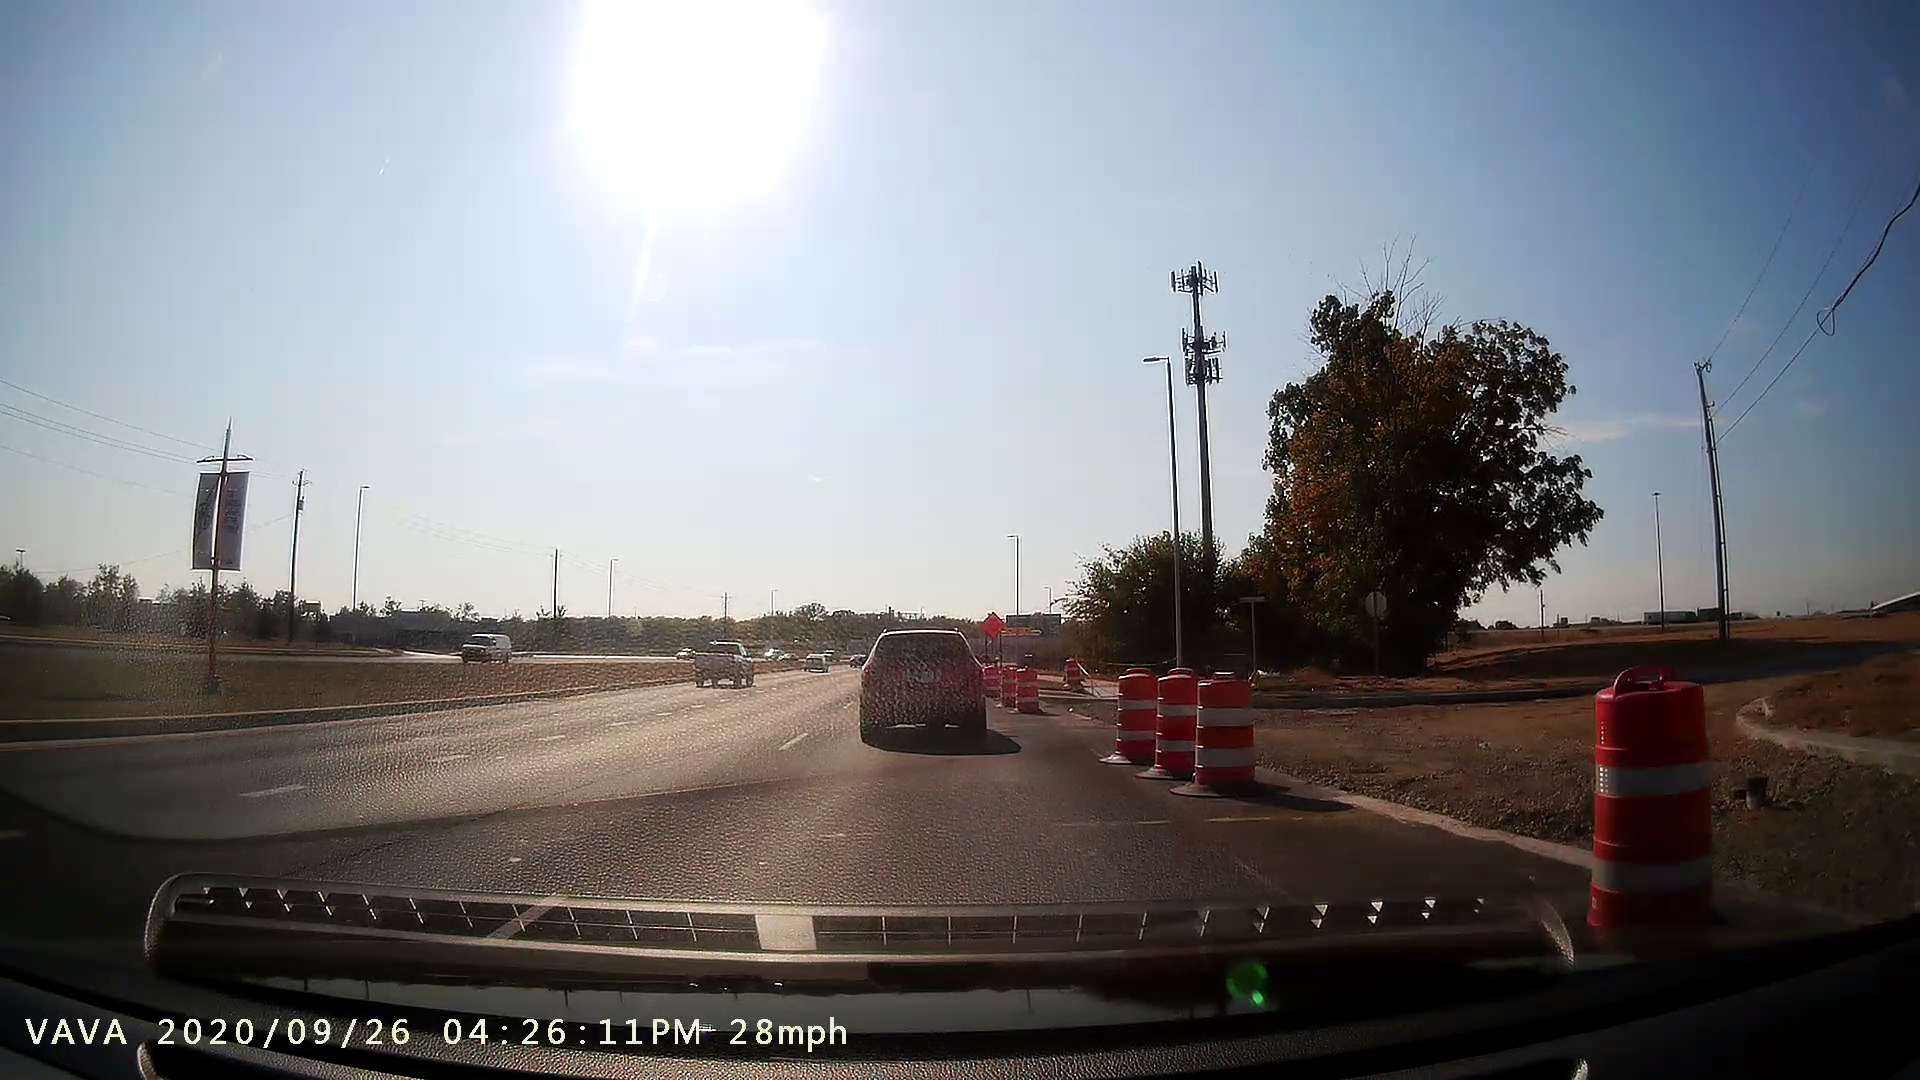const_barrel: (1179, 673, 1271, 807), (1101, 665, 1158, 781)
